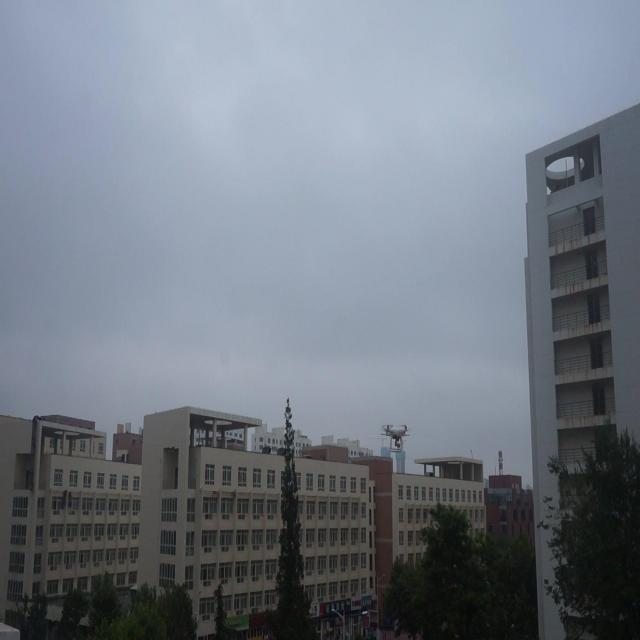UAV: (381, 424, 410, 452)
